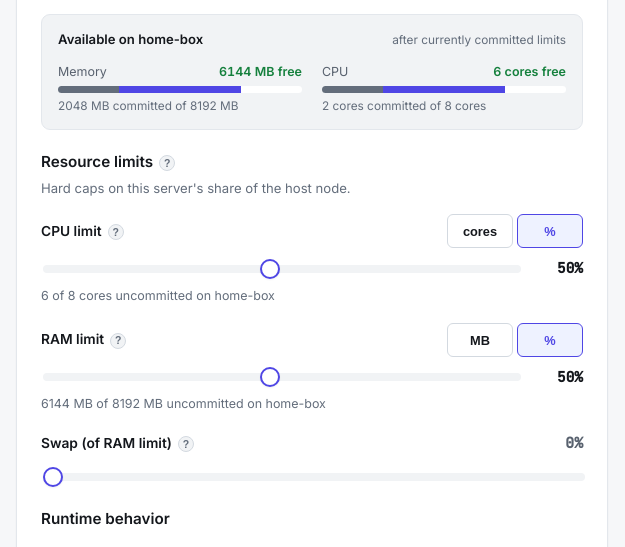
Test: NewDeployment › resource units and capacity › warns when the request exceeds what the node has left
(page scrolled)
Expected: the text "6144 MB of 8192 MB uncommitted on home-box" is shown, [41,396,326,411]
Click the button with aria-label "RAM limit in MB". click: (480, 340)
box: [447,323,513,357]
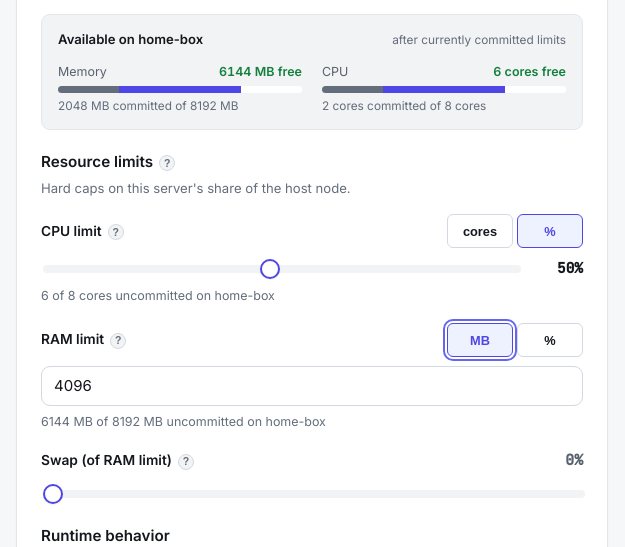
Replace the text in the number field named "RAM limit" with "8000". click: (312, 386)
box: [41,366,583,406]
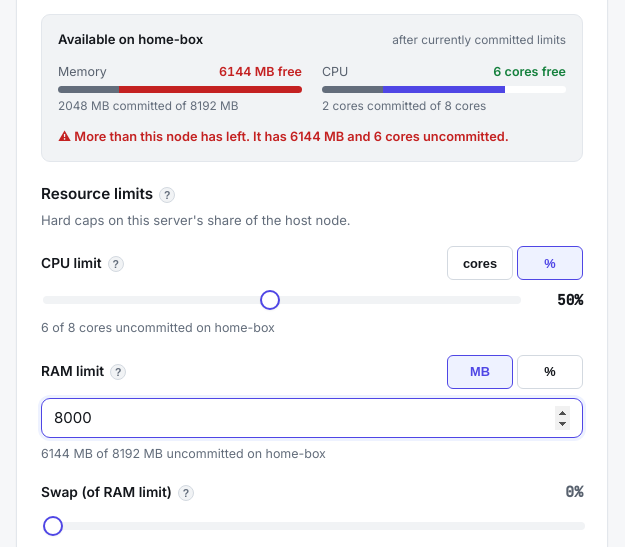
Now the message shows "More than this node has left", box [58,130,290,144]
